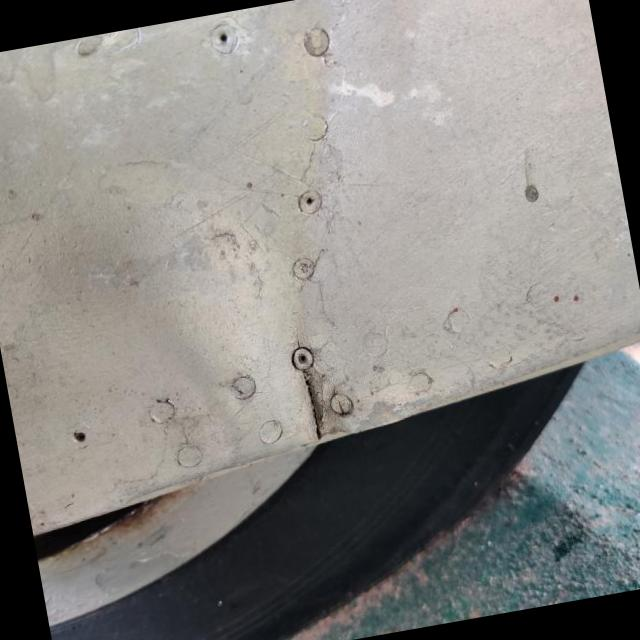Crack: (290, 346, 338, 442)
